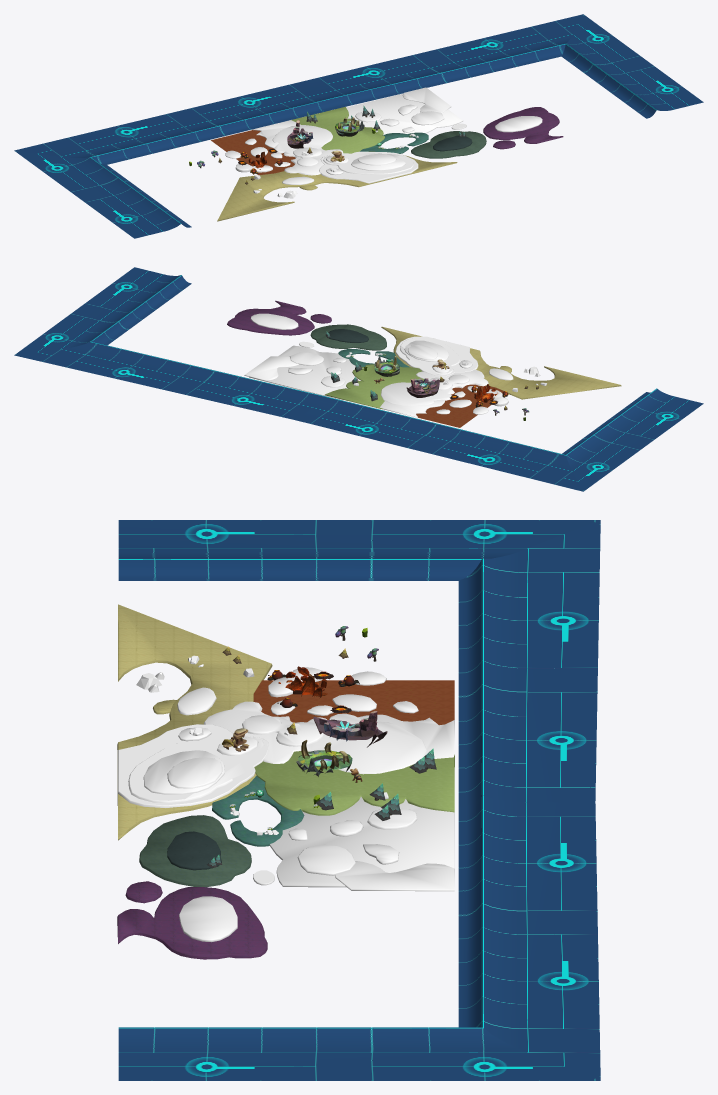
File: 10_06_Quan_Dao_Bien_Sau.glb
3 views of the same model, one above another, from view 1: azimuth 30°, elevation 25°; view 2: azimuth 150°, elevation 25°; view 3: azimuth 270°, elevation 25° (orthographic). The views are drawn at different scales.
Parts seen in each view (by area): view 1: 10_06_Quan_Dao_Bien_Sau; view 2: 10_06_Quan_Dao_Bien_Sau; view 3: 10_06_Quan_Dao_Bien_Sau.
Part boxes in pixels (x1,y1,x2,y2): 10_06_Quan_Dao_Bien_Sau: (14, 14, 703, 238); 10_06_Quan_Dao_Bien_Sau: (14, 267, 703, 491); 10_06_Quan_Dao_Bien_Sau: (117, 520, 600, 1080).
Size of the model in its own units: 214 by 8.3 by 78.74.
Materials: 19 (14 with a texture image).
